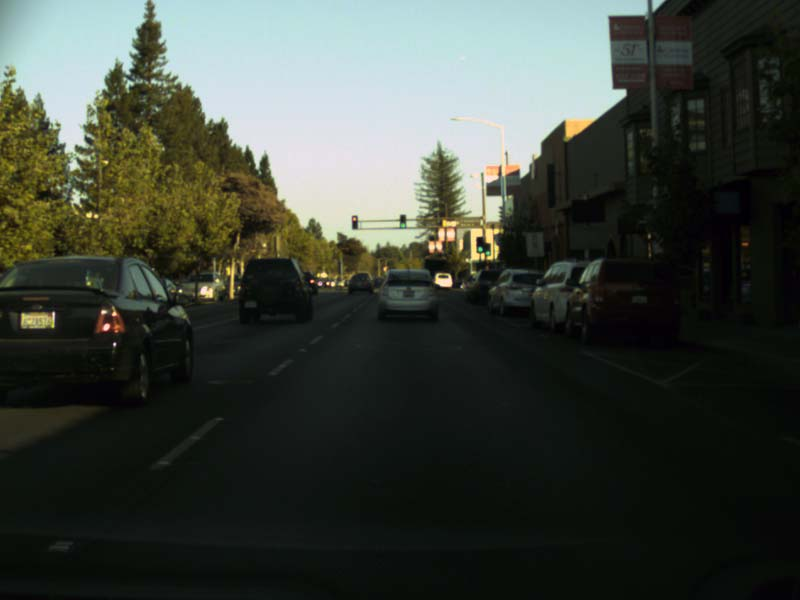Green: (476, 236, 483, 252), (399, 214, 405, 227), (485, 243, 489, 256), (398, 257, 402, 262)
Red: (351, 215, 357, 228)
